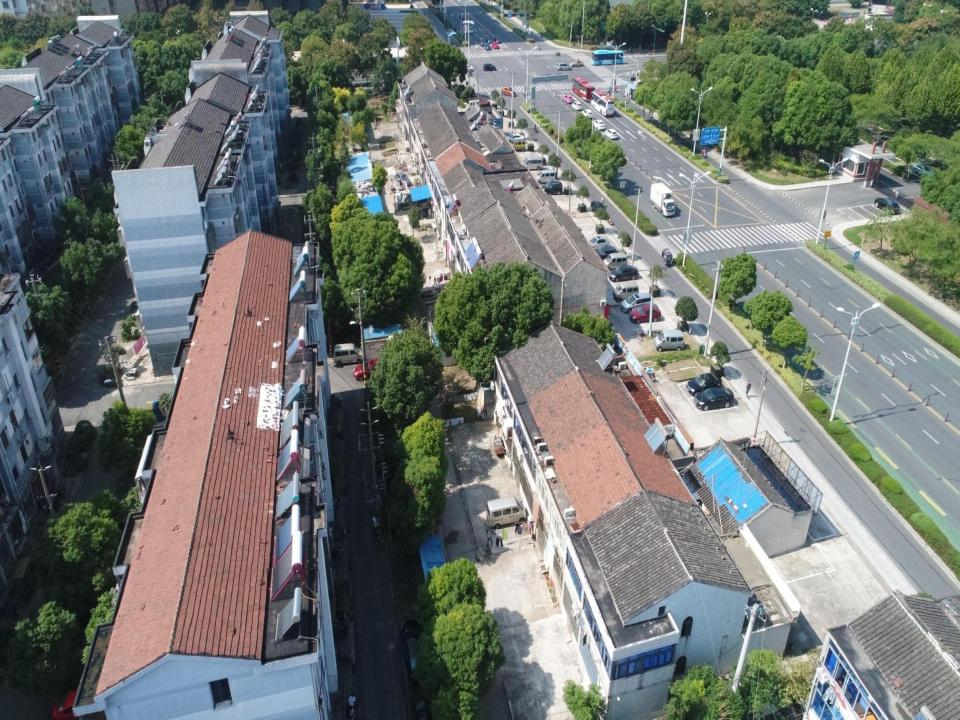bus: (591, 90, 614, 116), (571, 77, 594, 102), (591, 49, 624, 65)
car: (694, 386, 734, 412), (354, 359, 390, 383), (685, 373, 722, 396), (620, 293, 654, 315), (628, 304, 662, 323), (608, 265, 639, 281), (874, 197, 900, 215), (910, 163, 934, 179), (539, 181, 563, 195), (590, 200, 606, 217), (394, 172, 411, 187), (504, 133, 524, 144), (604, 128, 618, 140), (502, 86, 516, 98), (592, 119, 606, 130), (458, 63, 474, 72), (581, 109, 593, 119), (556, 63, 572, 70), (571, 101, 582, 111), (562, 94, 574, 103), (569, 60, 584, 67), (483, 63, 496, 71), (478, 37, 486, 47), (491, 41, 500, 49), (485, 36, 493, 44), (493, 36, 502, 43), (484, 43, 491, 51), (466, 26, 473, 33), (459, 12, 465, 19)
truck: (649, 181, 676, 217)
van: (486, 493, 528, 528), (331, 342, 364, 370), (653, 329, 685, 352), (613, 280, 640, 302), (601, 252, 628, 270), (584, 235, 610, 251), (592, 246, 618, 260), (520, 156, 543, 170), (535, 170, 556, 184), (509, 140, 526, 151), (465, 99, 479, 109)
